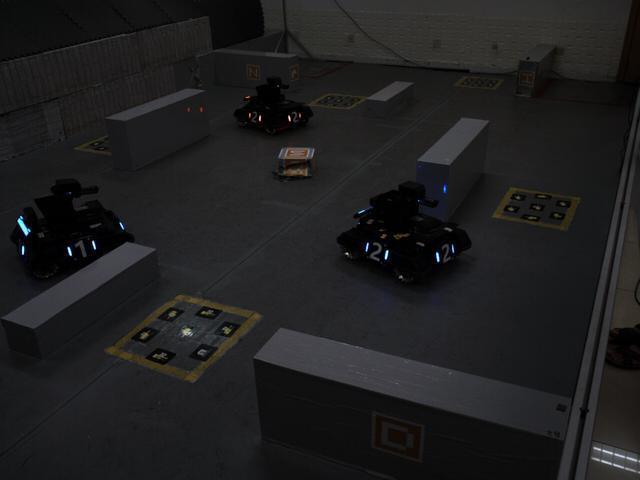armor: (362, 233, 395, 268), (64, 234, 98, 263), (431, 236, 459, 269), (244, 107, 266, 127), (284, 109, 303, 127)
